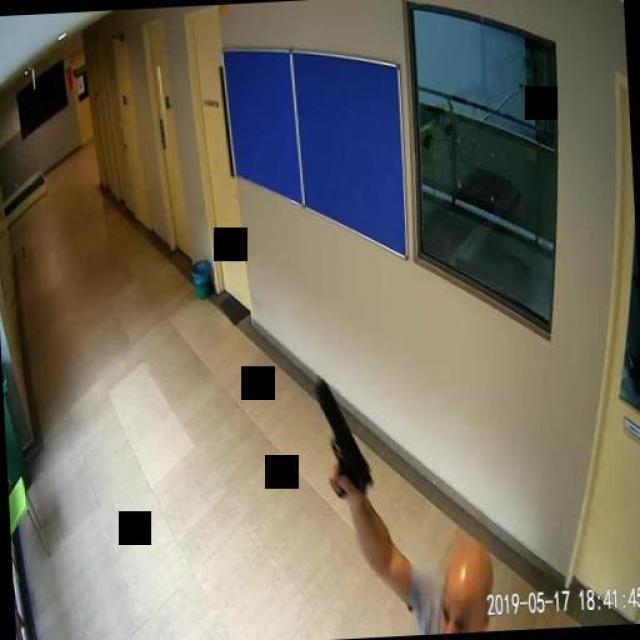gun: (315, 374, 374, 500)
